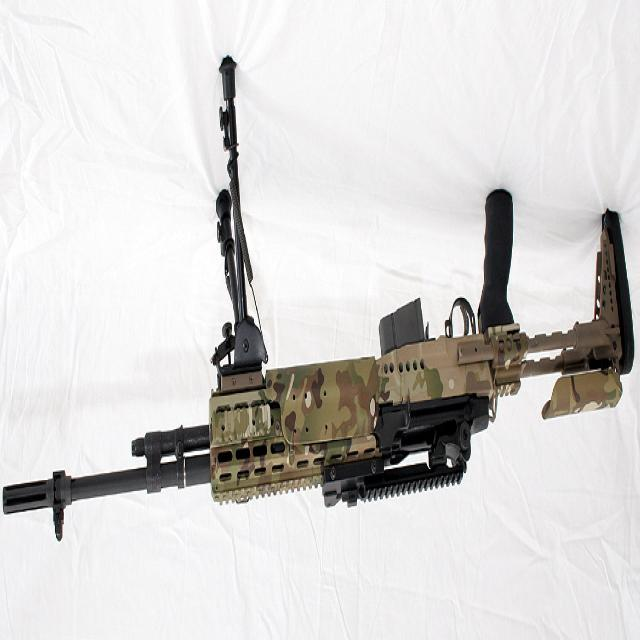Gun: (0, 64, 633, 530)
